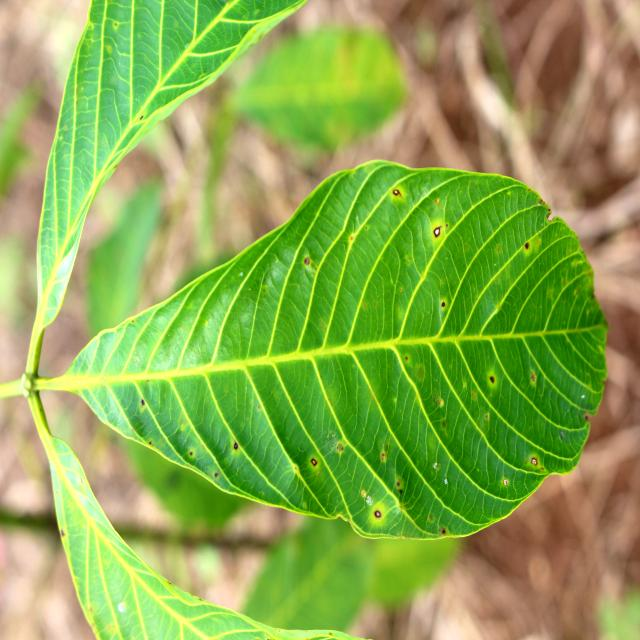Colletotrichum: (434, 227, 441, 237), (310, 458, 317, 466), (374, 511, 381, 517), (393, 189, 399, 195)
